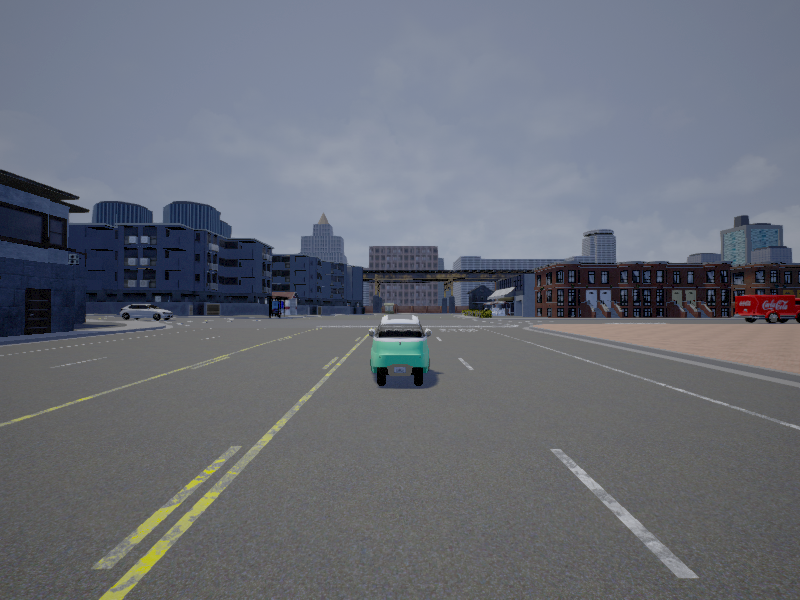Benign: (367, 312, 432, 386), (735, 296, 800, 323), (119, 304, 174, 322)
